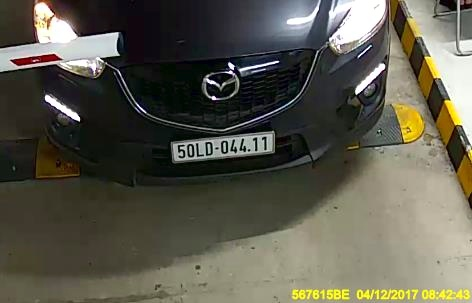plate: (168, 134, 278, 160)
